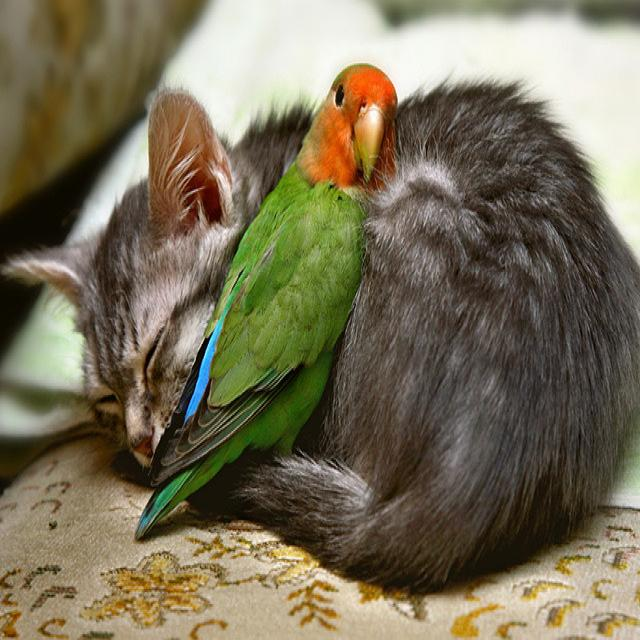cat: (5, 50, 640, 602)
